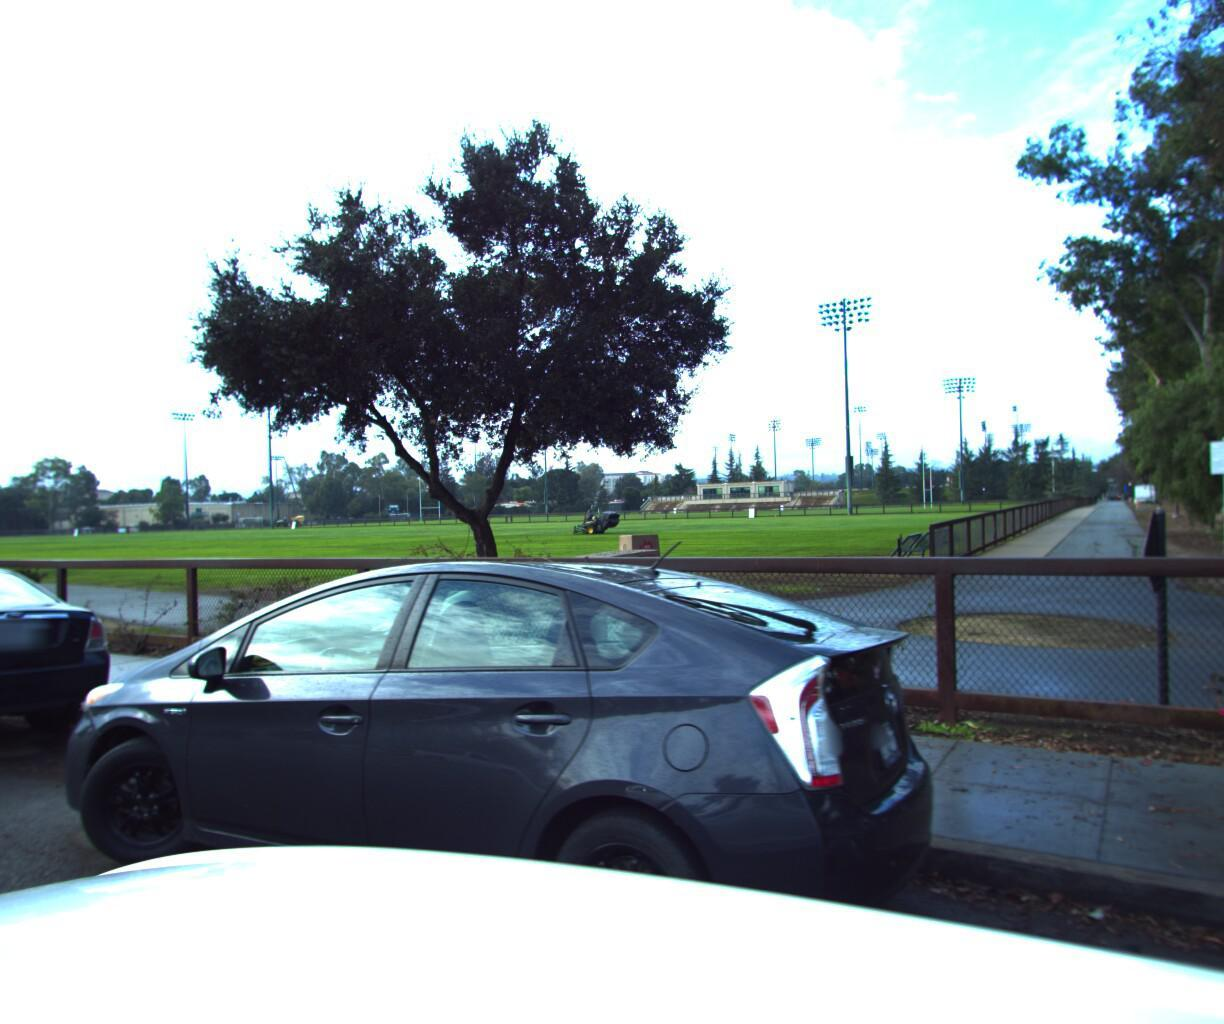car: (0, 542, 965, 1024), (0, 549, 147, 801)
motorcycle: (1157, 564, 1224, 1024)
other_vehicle: (568, 495, 624, 528)
